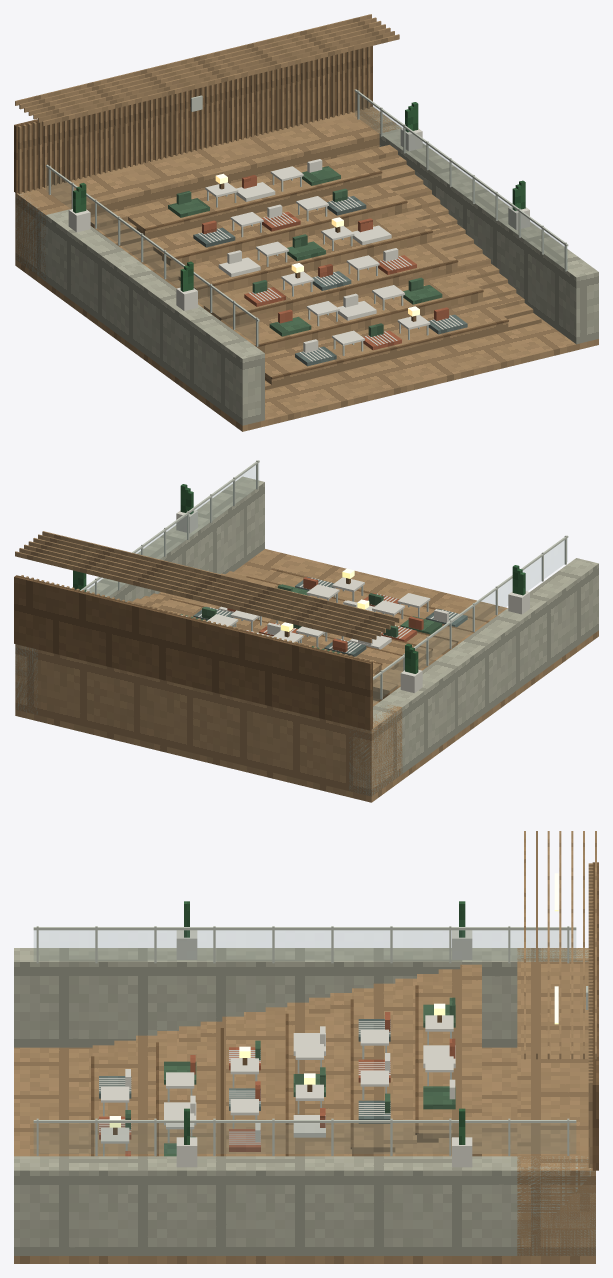
Rendered from lounge-browser-export.glb.
The picture shows the model from 3 angles, top to bottom: view 1: azimuth 30°, elevation 25°; view 2: azimuth 150°, elevation 25°; view 3: azimuth 270°, elevation 25°; orthographic projection. The views are drawn at different scales.
Visible parts, largest first — view 1: Timber_Tiers__Lounge timber, Timber_Tiers__Lounge wall, Slatted_Wall_And_Planters__Lounge timber, Ceiling_Baffles_Cutaway__Lounge timber, Slatted_Wall_And_Planters, Side_Stairs_And_Balustrades__Lounge timber, Side_Stairs_And_Balustrades__Lounge glass, Tables_Cushions_Lamps__Lounge ivory furniture, Timber_Tiers__Lounge wood slats, Tables_Cushions_Lamps__Lounge green cushion, Side_Stairs_And_Balustrades__Lounge ivory balustrade, Tables_Cushions_Lamps__Lounge terracotta cushion (+4 smaller); view 2: Timber_Tiers__Lounge timber, Timber_Tiers__Lounge wall, Slatted_Wall_And_Planters, Ceiling_Baffles_Cutaway__Lounge timber, Side_Stairs_And_Balustrades__Lounge glass, Tables_Cushions_Lamps__Lounge ivory furniture, Side_Stairs_And_Balustrades__Lounge ivory balustrade, Side_Stairs_And_Balustrades__Lounge timber, Slatted_Wall_And_Planters__Lounge leaf, Slatted_Wall_And_Planters__Lounge ivory furniture, Tables_Cushions_Lamps__Lounge green cushion, Tables_Cushions_Lamps__Lounge terracotta cushion (+3 smaller); view 3: Timber_Tiers__Lounge wall, Timber_Tiers__Lounge timber, Side_Stairs_And_Balustrades__Lounge glass, Tables_Cushions_Lamps__Lounge ivory furniture, Side_Stairs_And_Balustrades__Lounge timber, Side_Stairs_And_Balustrades__Lounge ivory balustrade, Ceiling_Baffles_Cutaway__Lounge timber, Timber_Tiers__Lounge wood slats, Slatted_Wall_And_Planters__Lounge ivory furniture, Tables_Cushions_Lamps__Lounge green cushion, Tables_Cushions_Lamps__Lounge terracotta cushion, Slatted_Wall_And_Planters (+4 smaller).
Part boxes in pixels (x1,y1,x2,y2): Timber_Tiers__Lounge timber: [15, 106, 598, 431]; Timber_Tiers__Lounge wall: [15, 107, 598, 425]; Slatted_Wall_And_Planters__Lounge timber: [18, 46, 370, 193]; Ceiling_Baffles_Cutaway__Lounge timber: [15, 14, 399, 126]; Slatted_Wall_And_Planters: [14, 46, 372, 193]; Side_Stairs_And_Balustrades__Lounge timber: [90, 145, 541, 390]; Side_Stairs_And_Balustrades__Lounge glass: [47, 92, 567, 345]; Tables_Cushions_Lamps__Lounge ivory furniture: [198, 159, 462, 361]; Timber_Tiers__Lounge wood slats: [144, 171, 508, 379]; Tables_Cushions_Lamps__Lounge green cushion: [168, 166, 442, 336]; Side_Stairs_And_Balustrades__Lounge ivory balustrade: [46, 89, 568, 346]; Tables_Cushions_Lamps__Lounge terracotta cushion: [202, 175, 448, 350]; Timber_Tiers__Lounge timber: [15, 549, 598, 802]; Timber_Tiers__Lounge wall: [15, 476, 598, 795]; Slatted_Wall_And_Planters: [14, 575, 372, 730]; Ceiling_Baffles_Cutaway__Lounge timber: [15, 531, 399, 642]; Side_Stairs_And_Balustrades__Lounge glass: [85, 465, 567, 703]; Tables_Cushions_Lamps__Lounge ivory furniture: [181, 577, 462, 653]; Side_Stairs_And_Balustrades__Lounge ivory balustrade: [80, 460, 568, 699]; Side_Stairs_And_Balustrades__Lounge timber: [128, 568, 443, 701]; Slatted_Wall_And_Planters__Lounge leaf: [73, 484, 525, 673]; Slatted_Wall_And_Planters__Lounge ivory furniture: [86, 510, 529, 692]; Tables_Cushions_Lamps__Lounge green cushion: [180, 584, 442, 653]; Tables_Cushions_Lamps__Lounge terracotta cushion: [227, 577, 423, 652]; Timber_Tiers__Lounge wall: [14, 948, 595, 1255]; Timber_Tiers__Lounge timber: [14, 948, 595, 1263]; Side_Stairs_And_Balustrades__Lounge glass: [34, 931, 575, 1153]; Tables_Cushions_Lamps__Lounge ivory furniture: [99, 1015, 455, 1144]; Side_Stairs_And_Balustrades__Lounge timber: [92, 964, 481, 1156]; Side_Stairs_And_Balustrades__Lounge ivory balustrade: [33, 926, 576, 1155]; Ceiling_Baffles_Cutaway__Lounge timber: [524, 831, 596, 1059]; Timber_Tiers__Lounge wood slats: [91, 985, 418, 1156]; Slatted_Wall_And_Planters__Lounge ivory furniture: [176, 930, 472, 1167]; Tables_Cushions_Lamps__Lounge green cushion: [125, 997, 455, 1156]; Tables_Cushions_Lamps__Lounge terracotta cushion: [99, 1012, 455, 1156]; Slatted_Wall_And_Planters: [586, 862, 598, 1170].
Bounding box in the file's own units: 13.4 × 5.9 × 14.88.
Materials: 11 (8 with a texture image).
